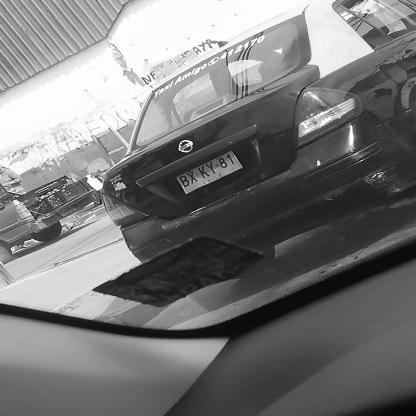Patente: (172, 148, 248, 197)
